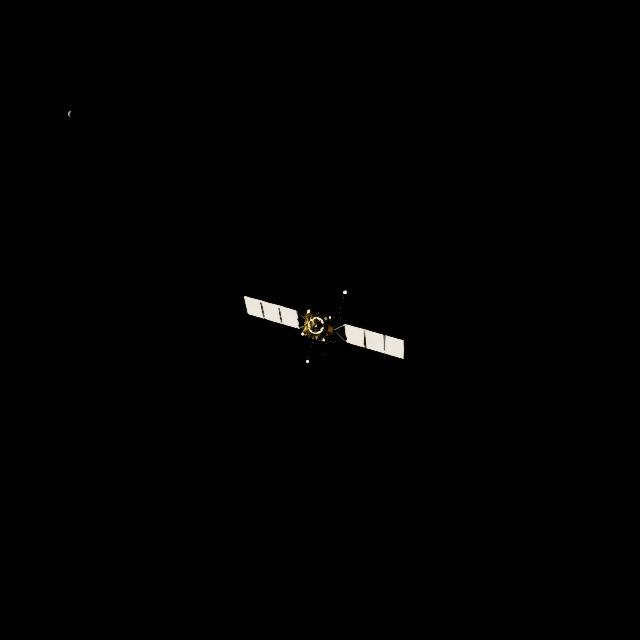medium_debris: (244, 293, 405, 361)
